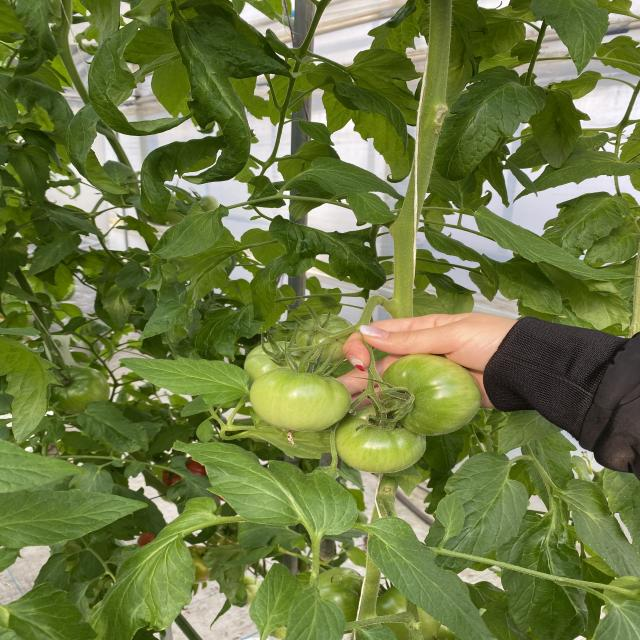yesil: (184, 289, 493, 481)
